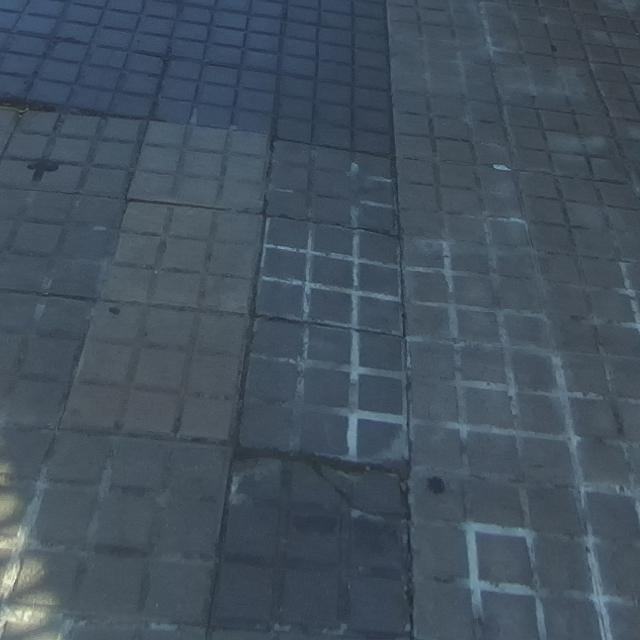calcada_quebrada: (307, 459, 408, 525)
